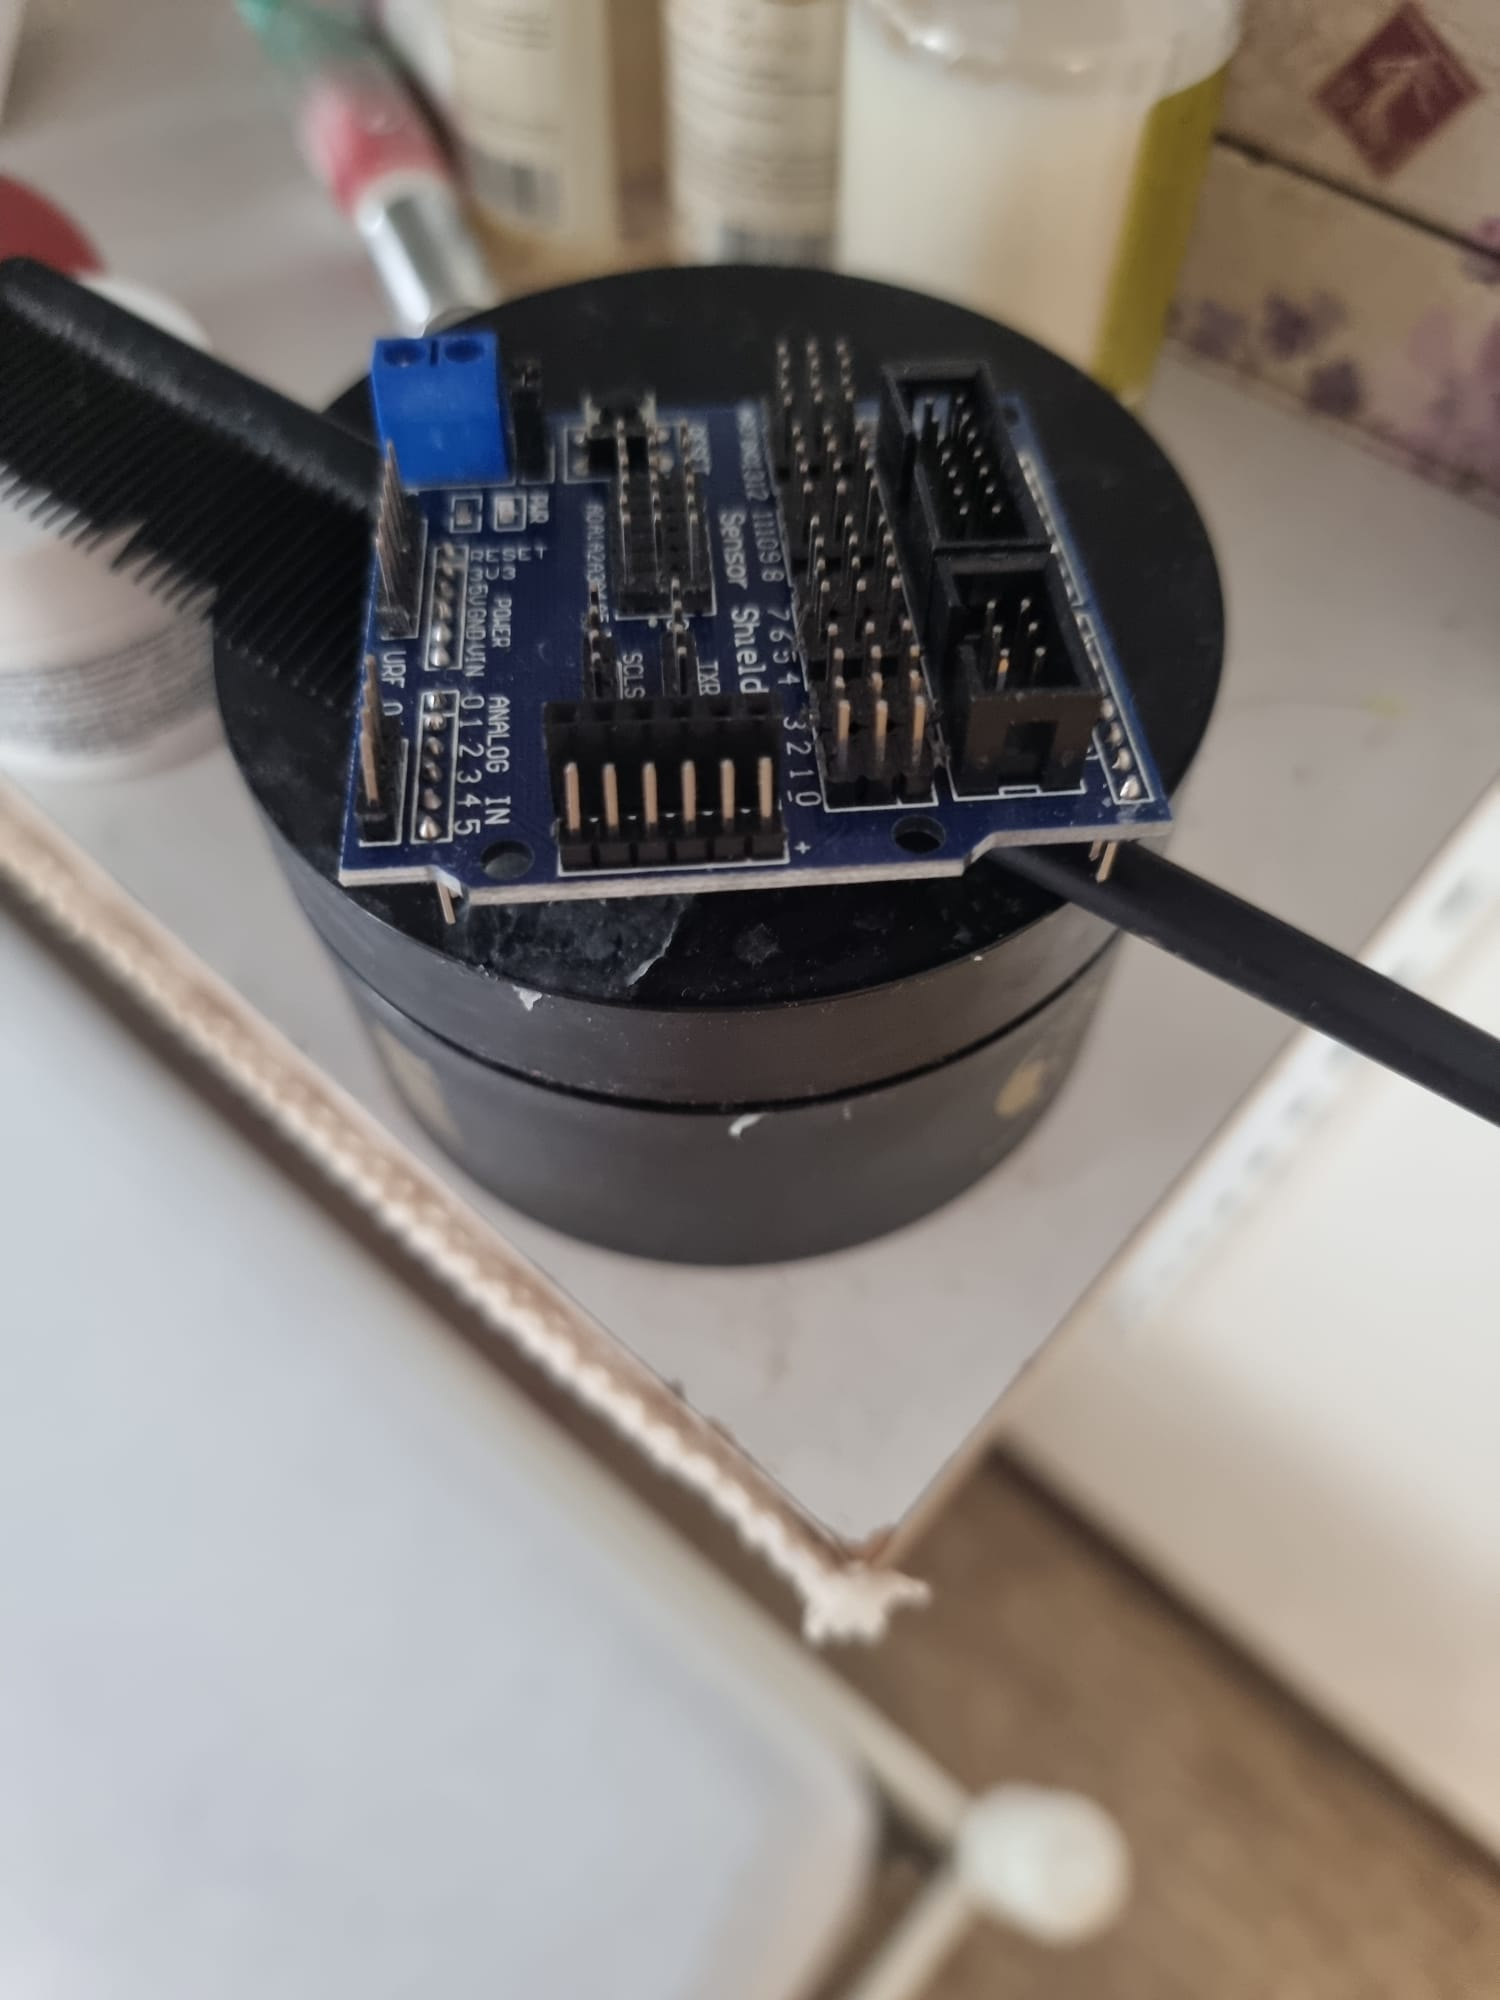5V EXPANSION: (350, 324, 1164, 857)
